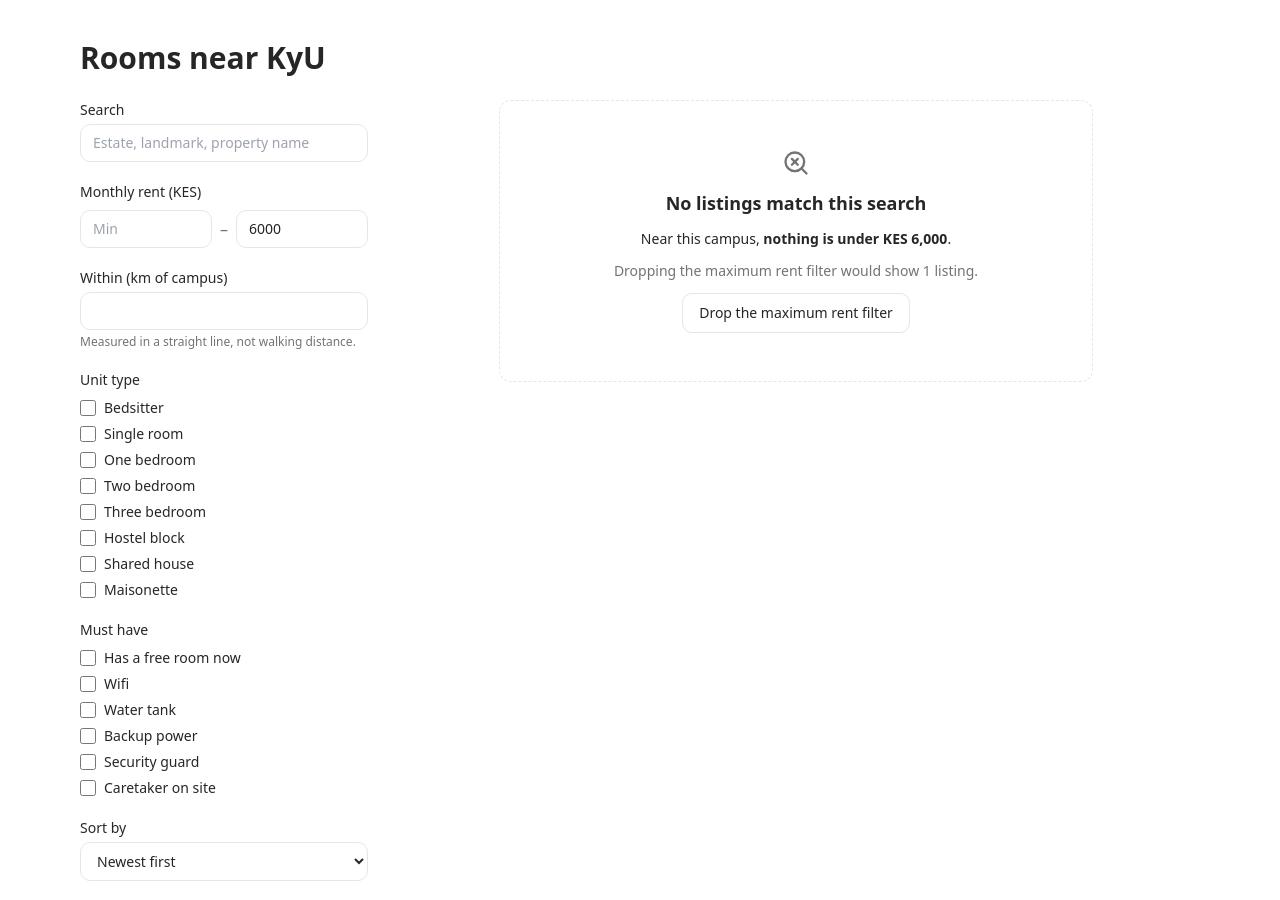
Test: the empty search › offers to drop exactly that filter, and re-searches without it
Click the button "Drop the maximum rent filter": click(796, 313) [682,293,910,333]
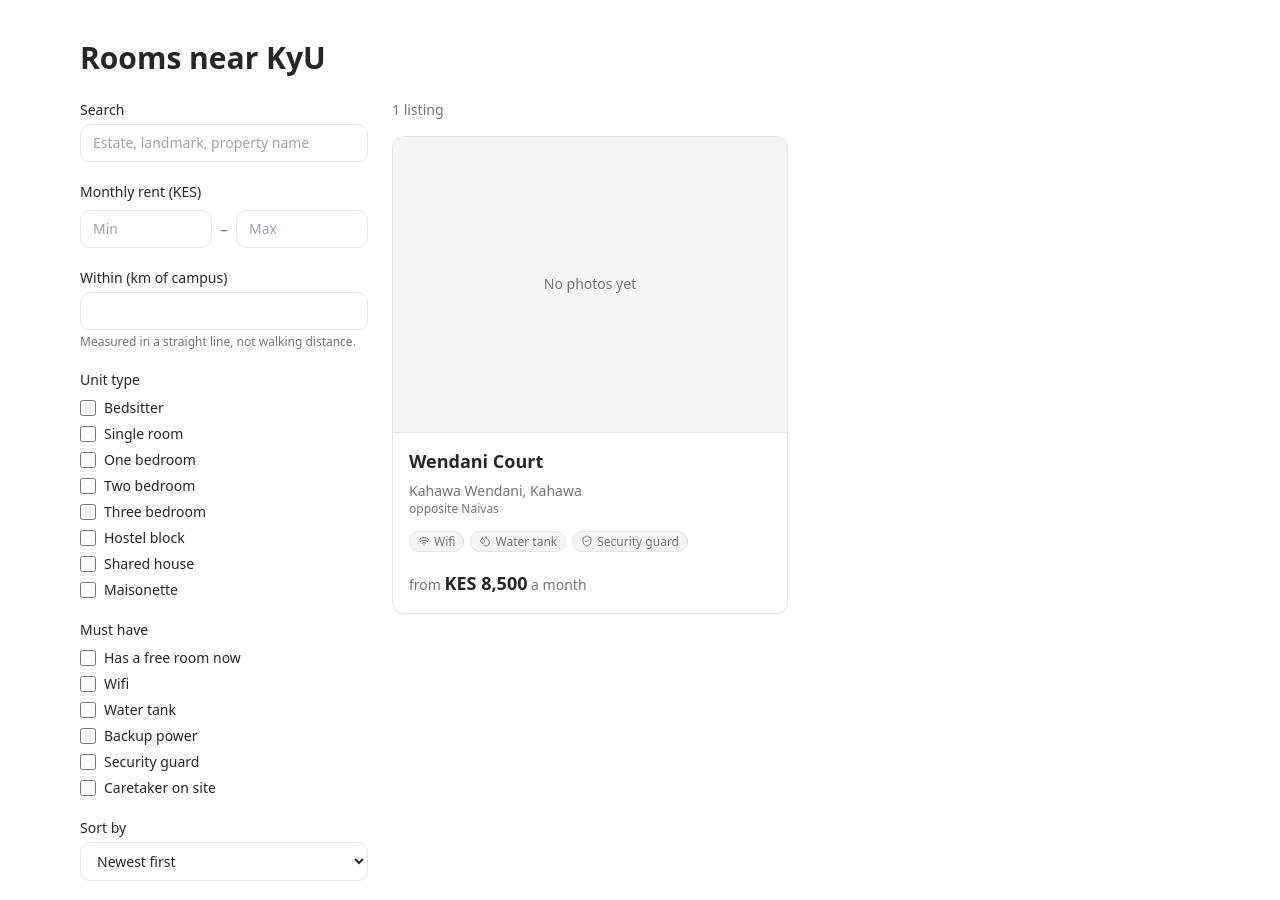
expect the link "Wendani Court" is shown: met, box [409,448,543,472]
